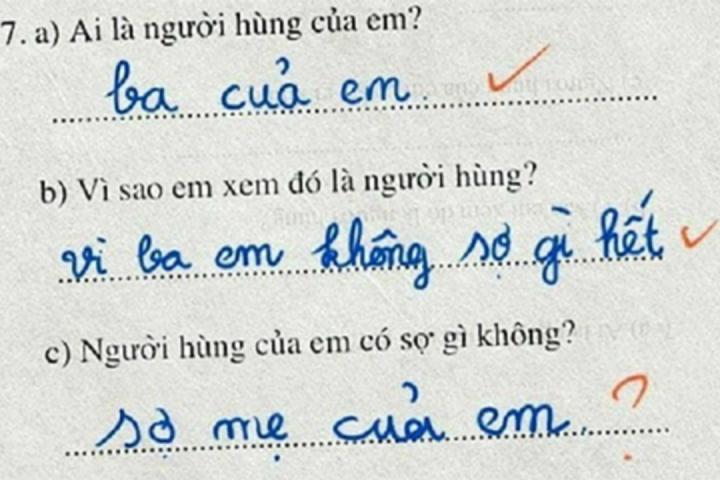text: (57, 185, 719, 296), (91, 371, 651, 469), (106, 41, 557, 116), (41, 317, 579, 374), (36, 157, 540, 211), (0, 1, 424, 52)
